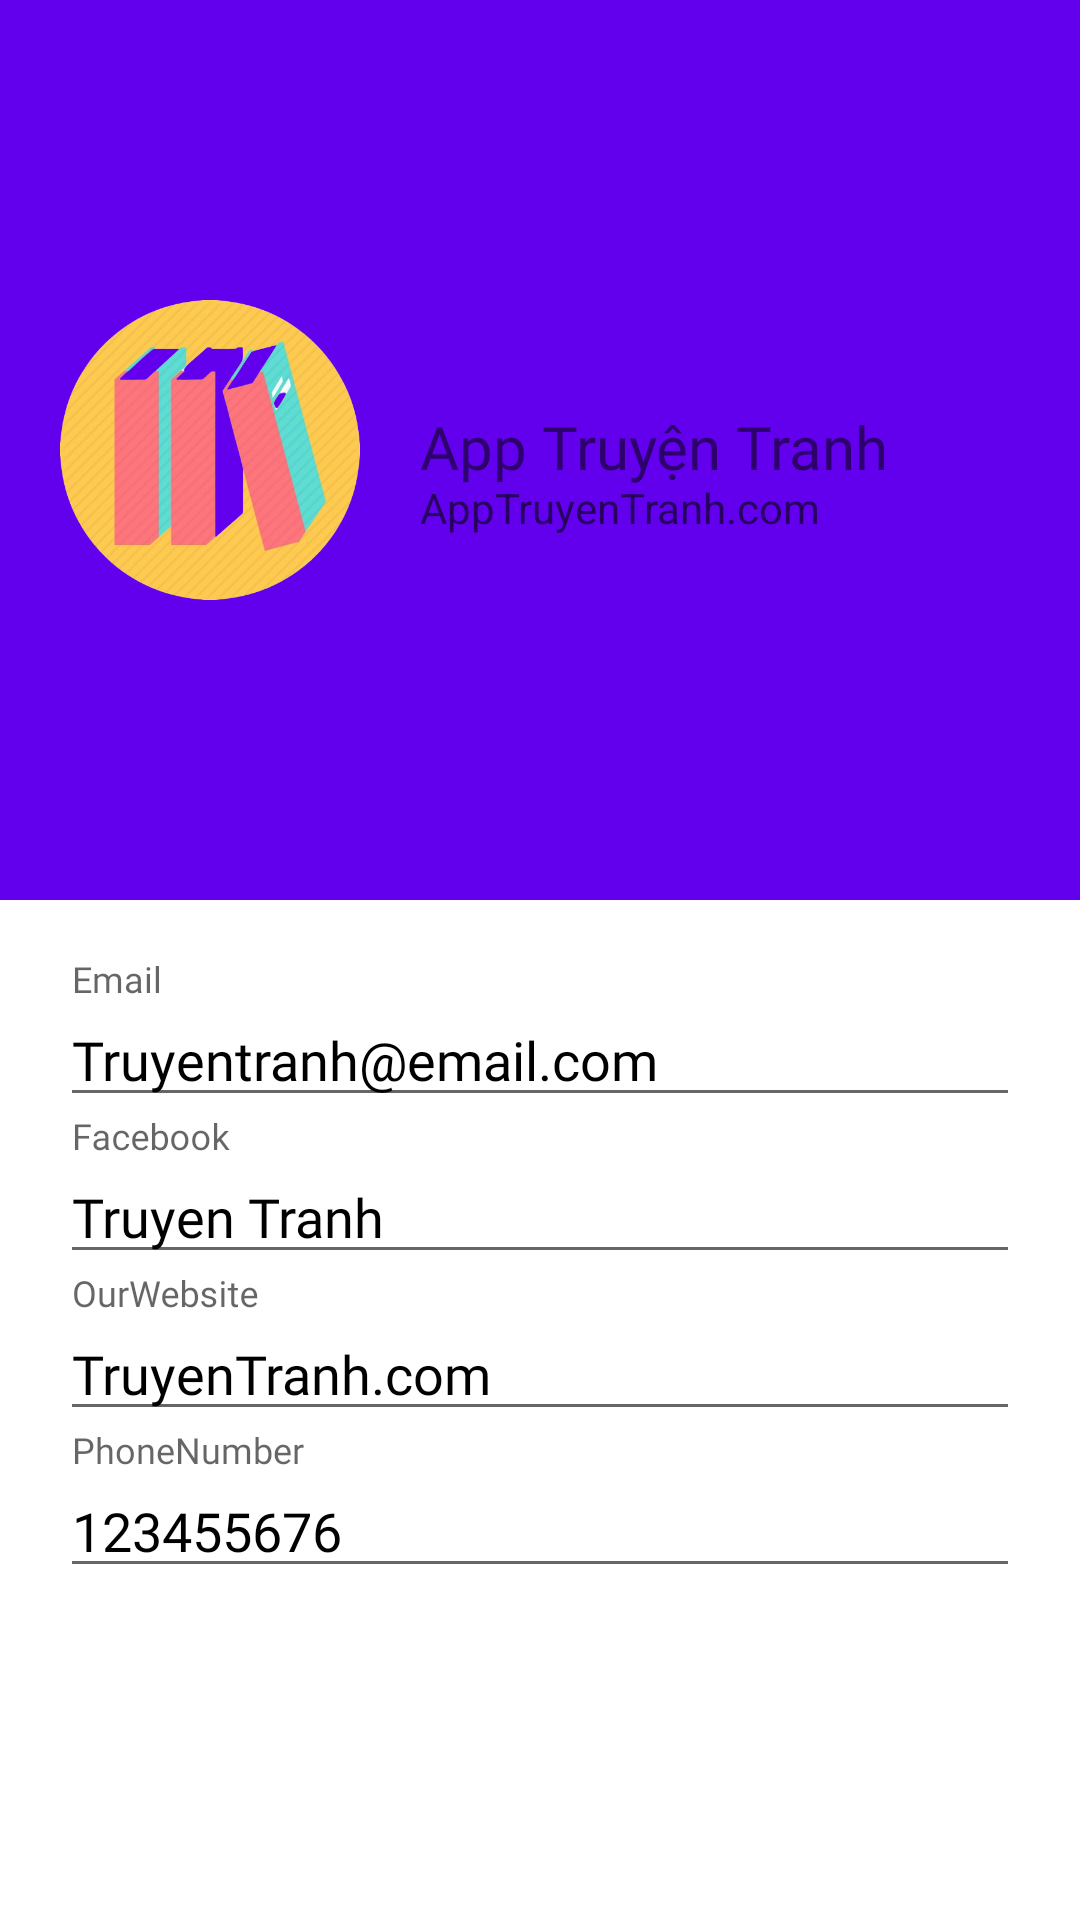

Where icons sit on this 1080 x 1920 app screen, as bbox=(x1, y1, x2, y2):
icontruyen: bbox=(60, 300, 360, 600)
